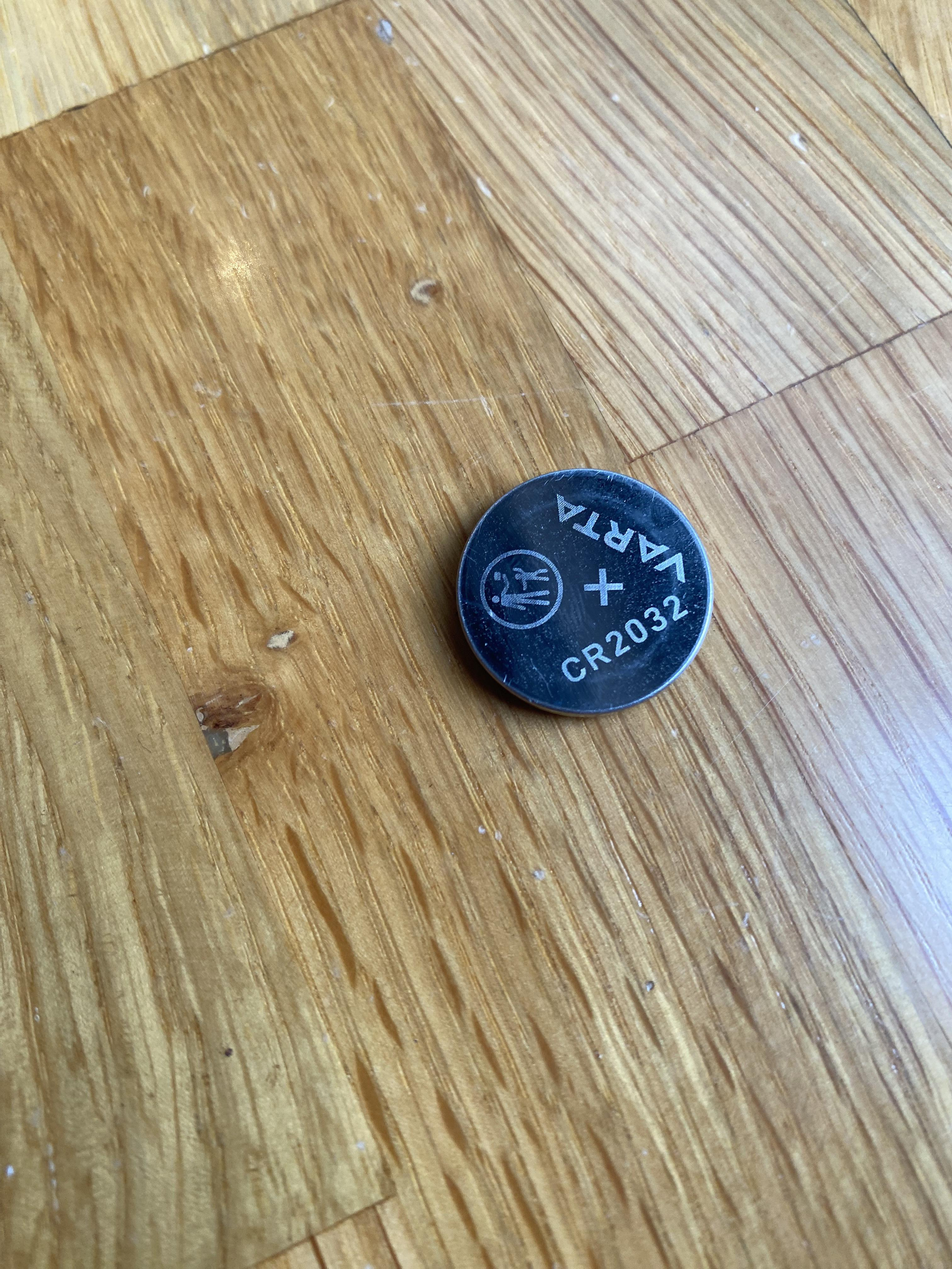COIN: (455, 466, 714, 717)
